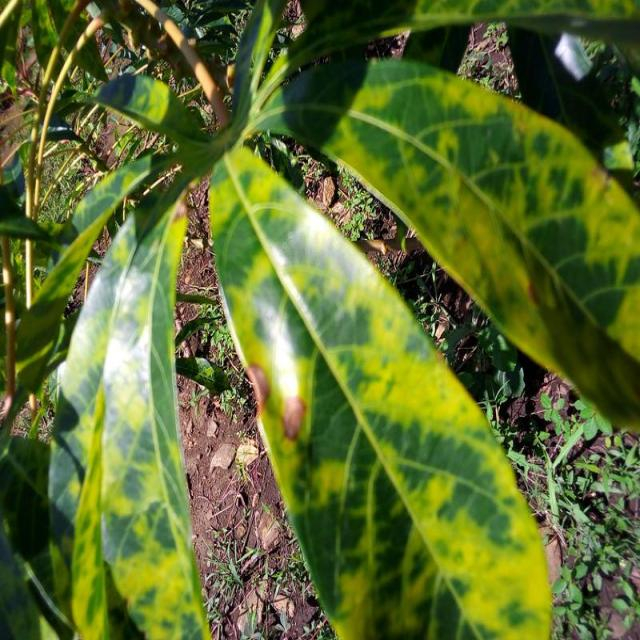cassava leaf: (206, 142, 554, 638), (262, 53, 640, 436), (46, 183, 212, 638)
